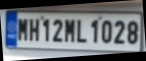character: (100, 19, 113, 43), (64, 18, 76, 43), (76, 18, 88, 43), (126, 19, 138, 44), (29, 18, 41, 42), (113, 20, 125, 44), (17, 18, 28, 42), (52, 19, 63, 42), (90, 19, 100, 44), (42, 17, 50, 42)
